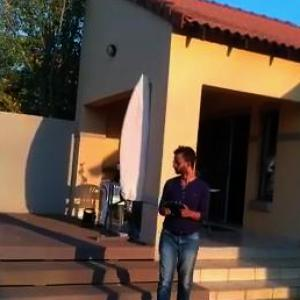follow: (149, 139, 214, 299)
